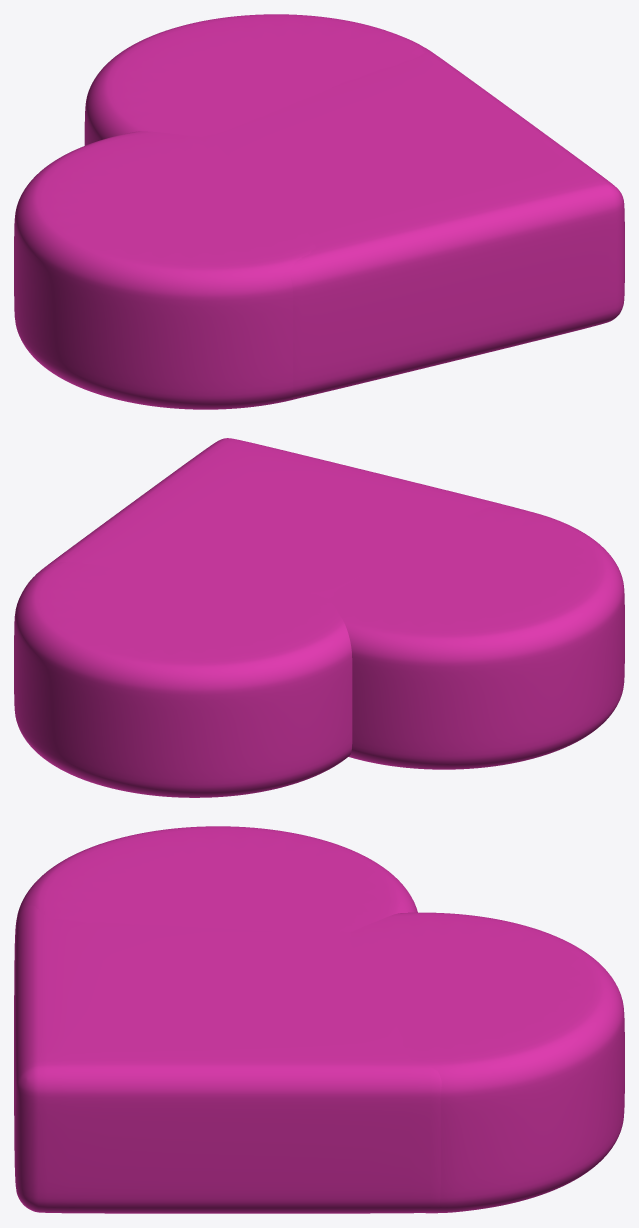
3 renders of one model, top to bottom at view 1: azimuth 30°, elevation 25°; view 2: azimuth 150°, elevation 25°; view 3: azimuth 270°, elevation 25°, orthographic. The views are drawn at different scales.
Parts seen in each view (by area): view 1: 円柱.001; view 2: 円柱.001; view 3: 円柱.001.
Boxes of the visible parts, x1,y1,x2,y2 form: 円柱.001: (14,14,624,409); 円柱.001: (14,438,624,797); 円柱.001: (14,826,624,1213).
Size of the model in its own units: 2.99 by 0.8143 by 2.99.
Materials: 1 (1 with a texture image).
